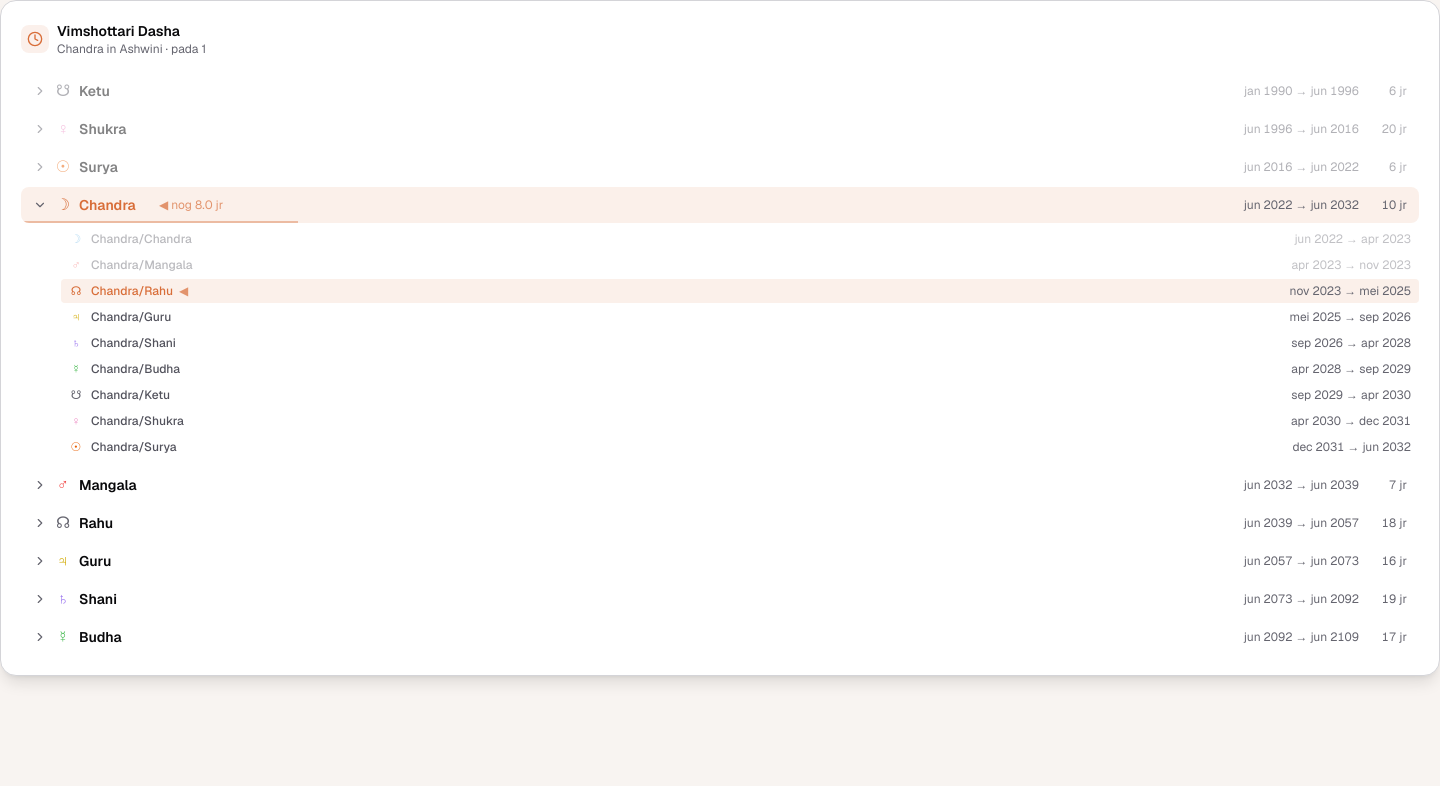
VimshottariDasha Component › toggles dasha expansion
Click the button with test id "dasha-ketu": coordinates (94, 91) 21,73 -> 1419,109
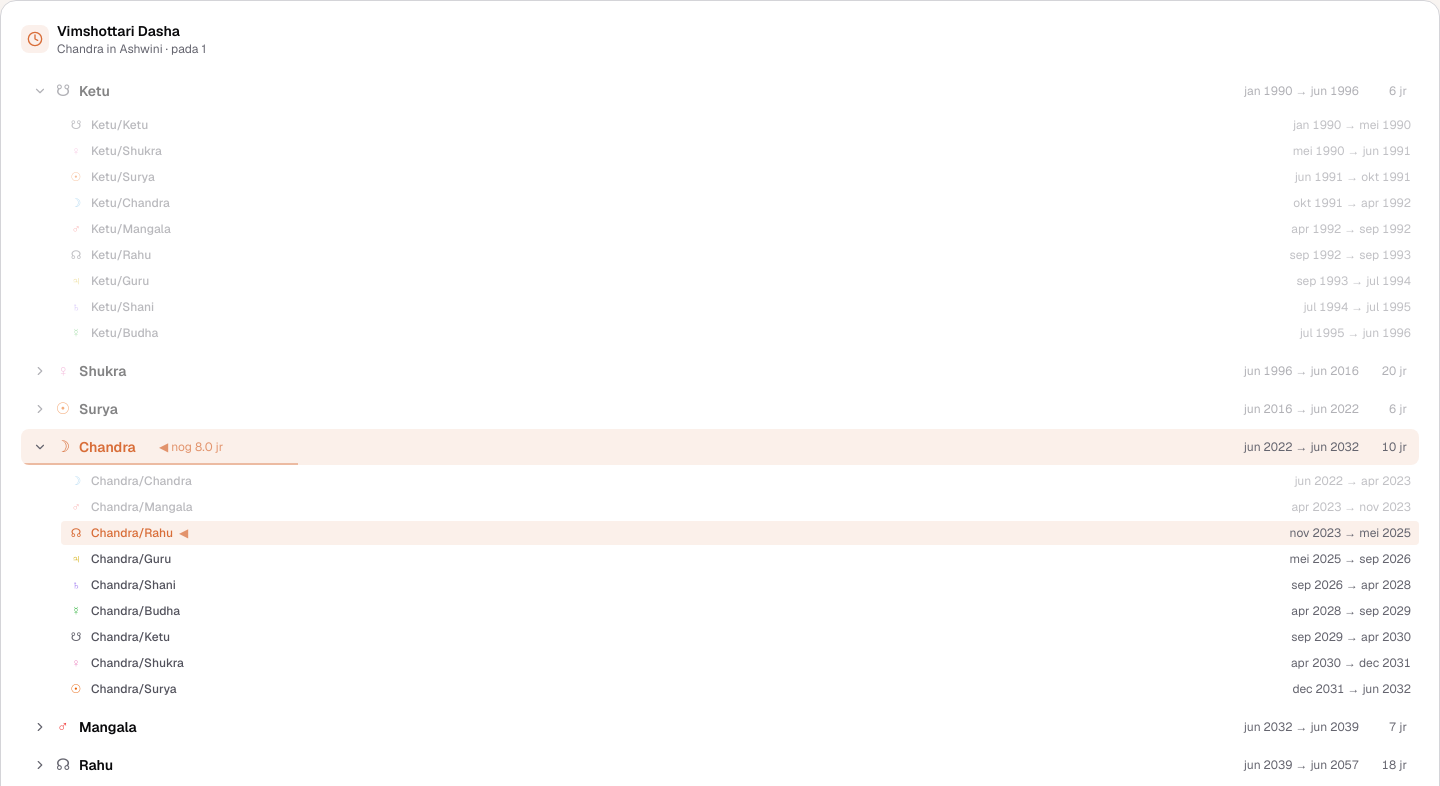
expect the text "Ketu/Ketu" is shown: met, box 91,117 -> 148,133
